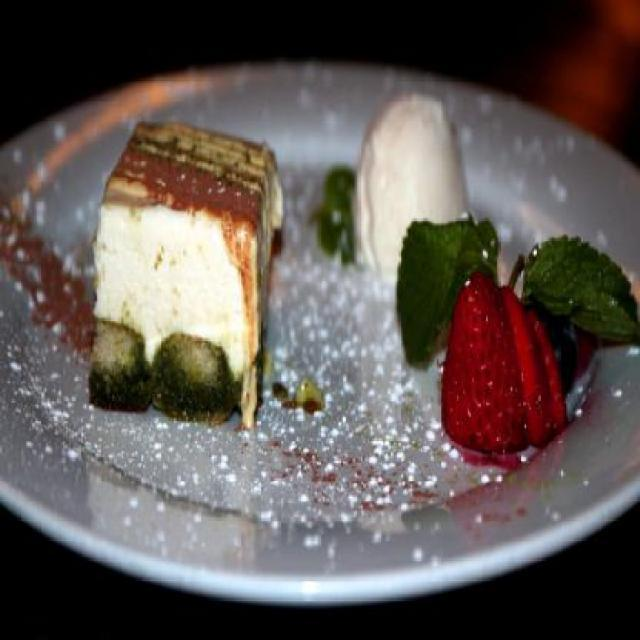Strawberry: (428, 209, 561, 457)
